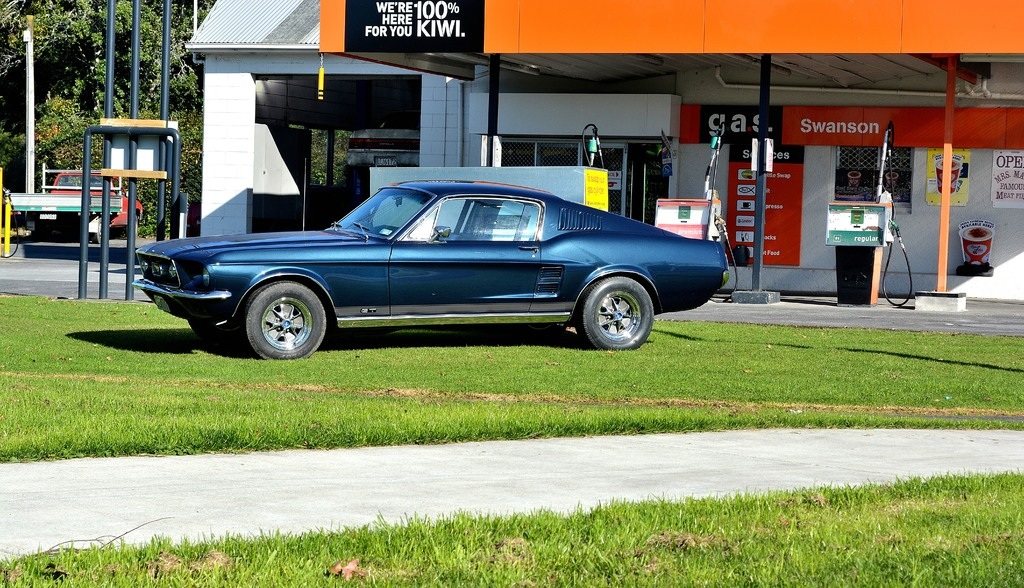Car: (129, 178, 728, 363), (46, 169, 151, 234)
